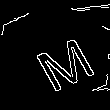M_NW: (19, 22, 91, 88)
